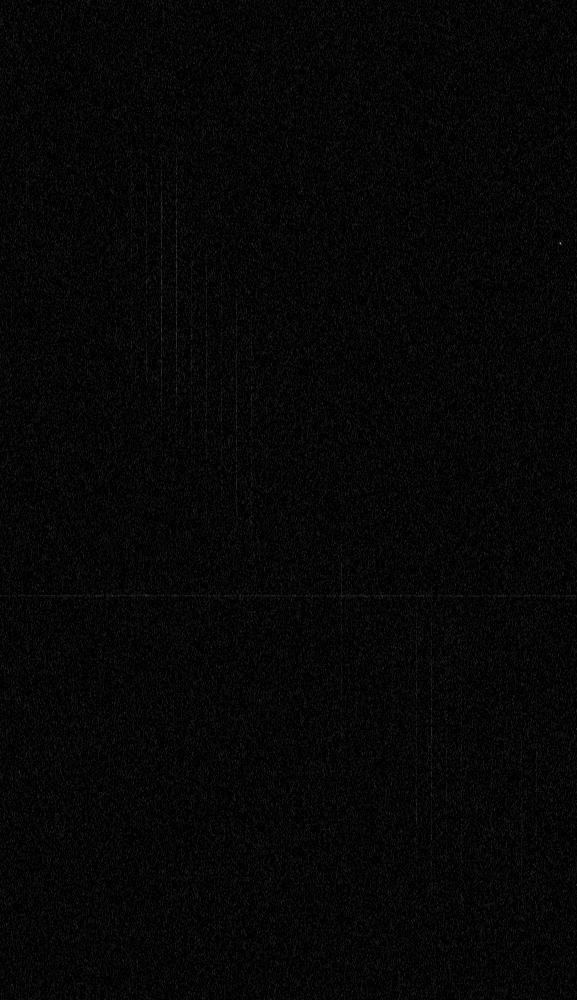signal: (0, 0, 576, 999)
